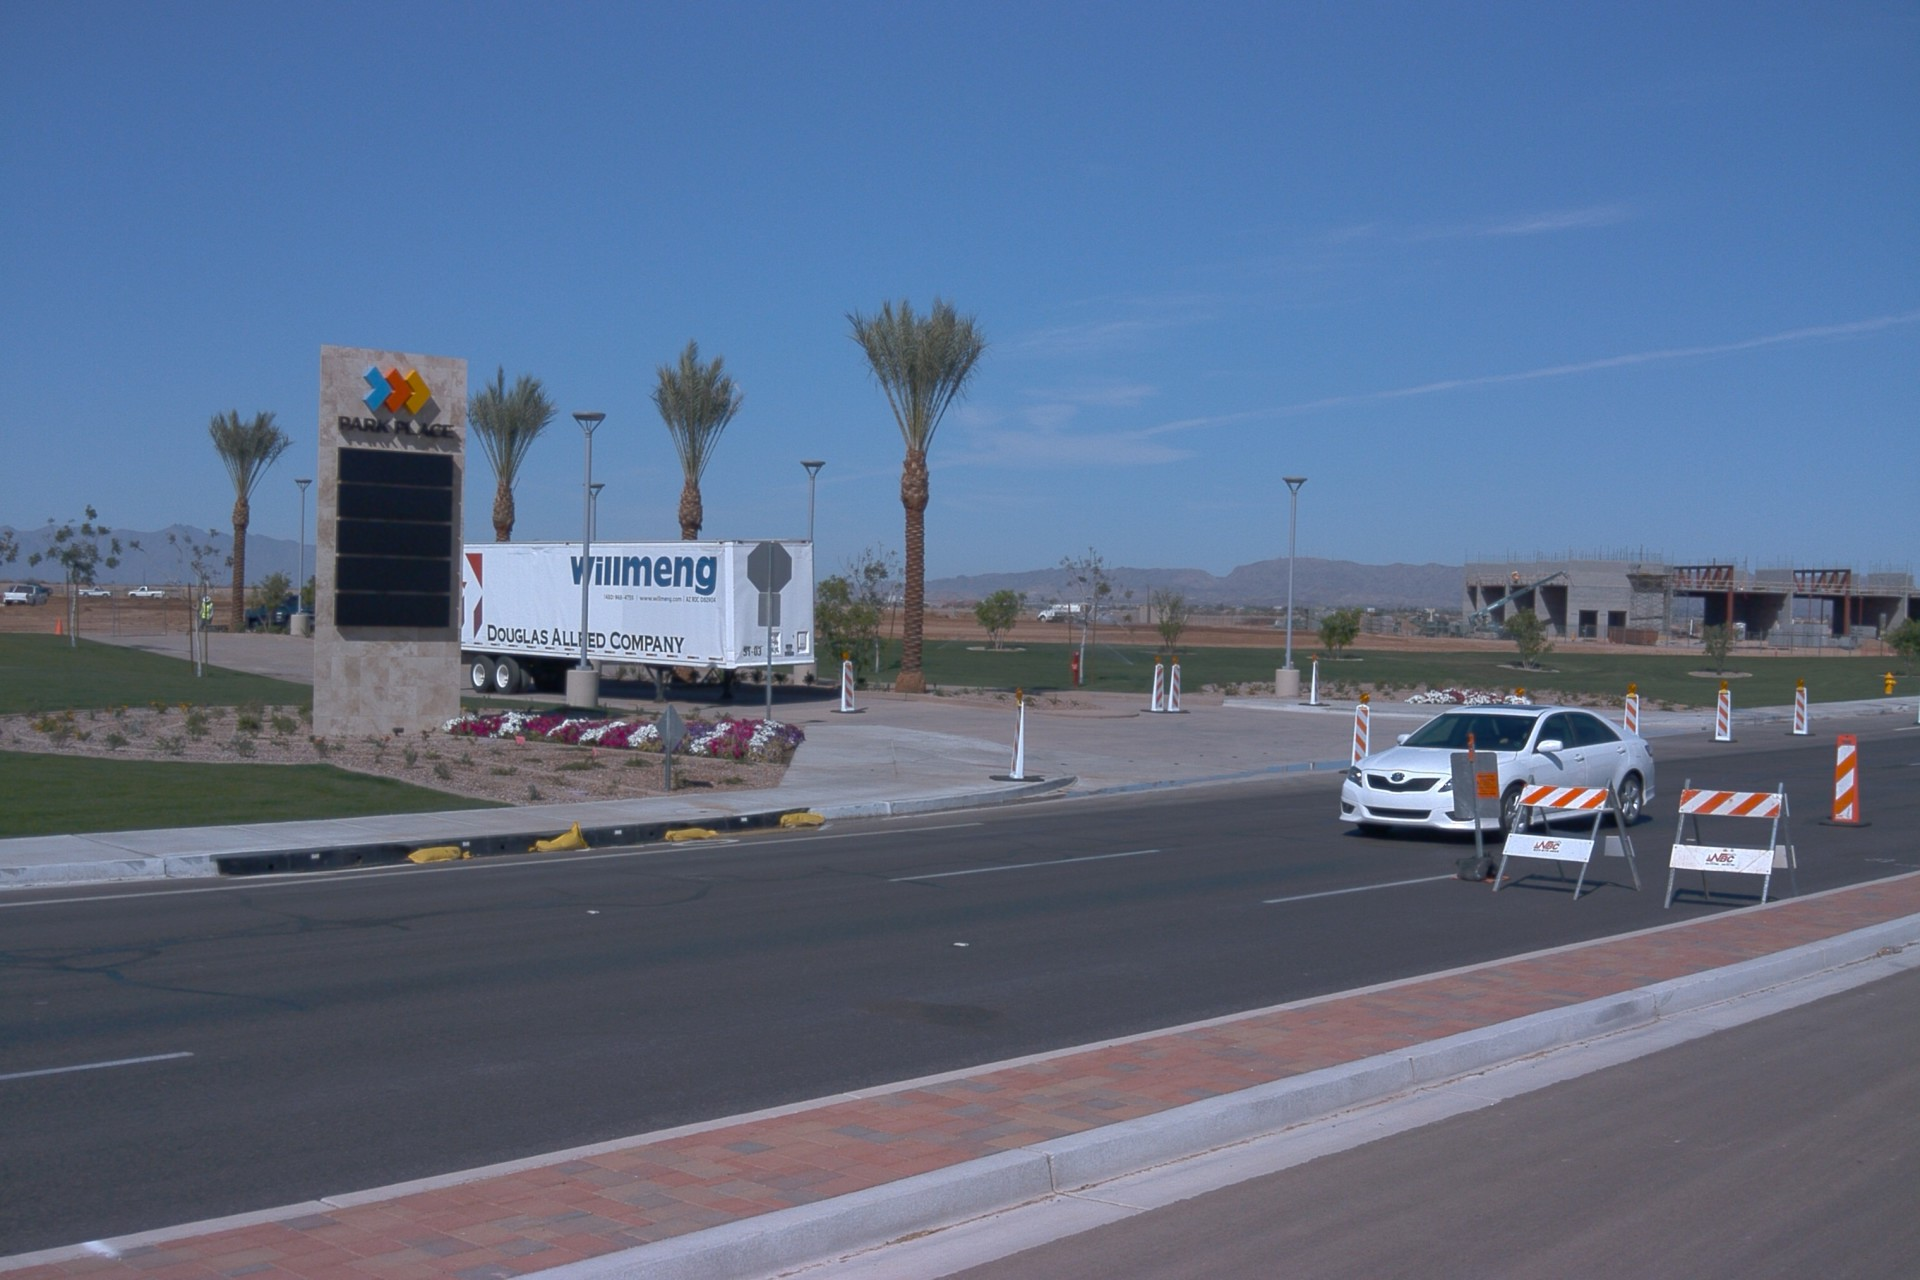TYPE_PEDESTRIAN: (195, 595, 213, 635)
TYPE_VEHICLE: (463, 534, 821, 703), (1338, 704, 1657, 844), (1468, 568, 1573, 632), (247, 593, 315, 636), (1035, 605, 1087, 627), (0, 584, 48, 606), (127, 581, 170, 596), (72, 583, 115, 597)
